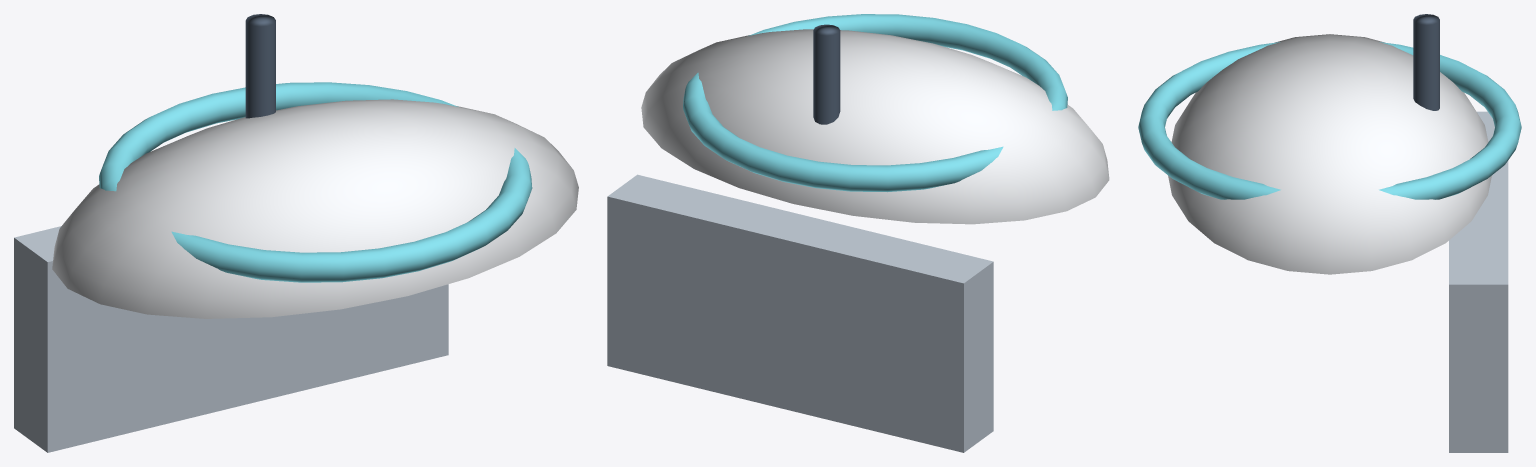
The model's file is washbasin.glb.
3 renders of one model, left to right at view 1: azimuth 30°, elevation 25°; view 2: azimuth 150°, elevation 25°; view 3: azimuth 270°, elevation 25°, orthographic. The views are drawn at different scales.
Visible parts, largest first — view 1: deep wall hung basin bowl, wall bracket panel, thin blue basin rim, short faucet stem; view 2: wall bracket panel, deep wall hung basin bowl, thin blue basin rim, short faucet stem; view 3: deep wall hung basin bowl, wall bracket panel, thin blue basin rim, short faucet stem.
Part boxes in pixels (bbox=[...]): deep wall hung basin bowl: bbox=[52, 99, 578, 318]; wall bracket panel: bbox=[14, 226, 448, 452]; thin blue basin rim: bbox=[99, 82, 532, 282]; short faucet stem: bbox=[245, 14, 275, 118]; wall bracket panel: bbox=[607, 174, 993, 452]; deep wall hung basin bowl: bbox=[641, 29, 1109, 224]; thin blue basin rim: bbox=[683, 14, 1067, 192]; short faucet stem: bbox=[813, 24, 840, 124]; deep wall hung basin bowl: bbox=[1168, 34, 1491, 274]; wall bracket panel: bbox=[1449, 111, 1508, 452]; thin blue basin rim: bbox=[1138, 42, 1521, 199]; short faucet stem: bbox=[1413, 14, 1439, 110].
Bounding box in the file's own units: 0.68 × 0.515 × 0.516.
